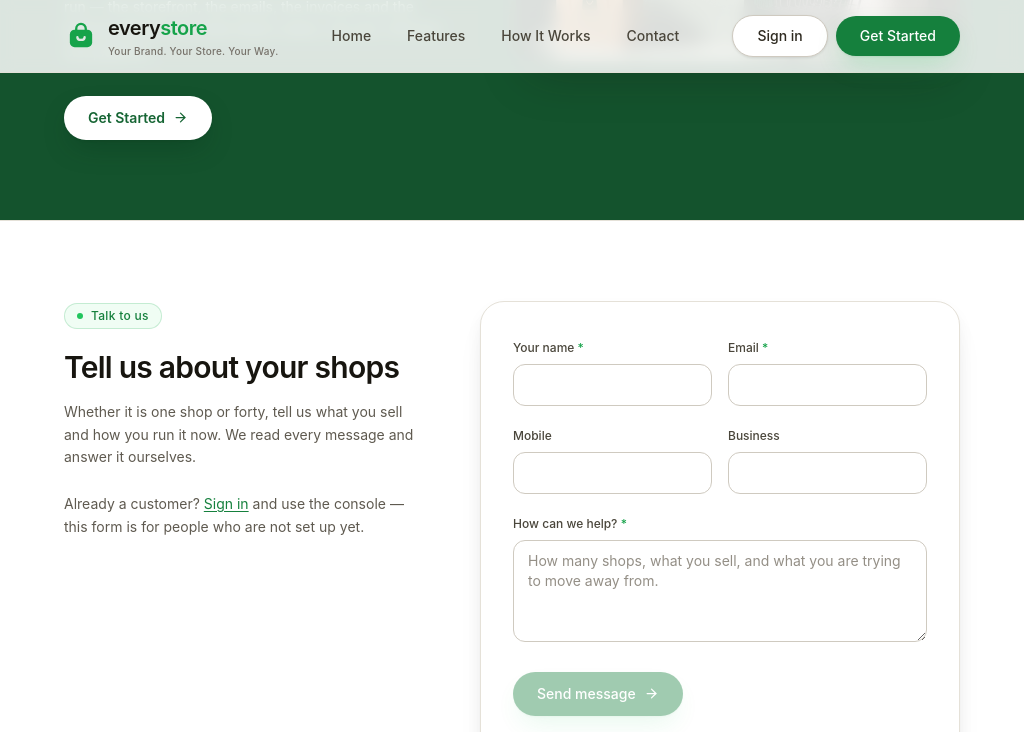
it: the contact form on the landing page › shows the server’s own refusal and keeps what was typed
(page scrolled)
Type "Priya Raman" into the field labelled "Your name *" at (612, 385), box [513,364,712,406]
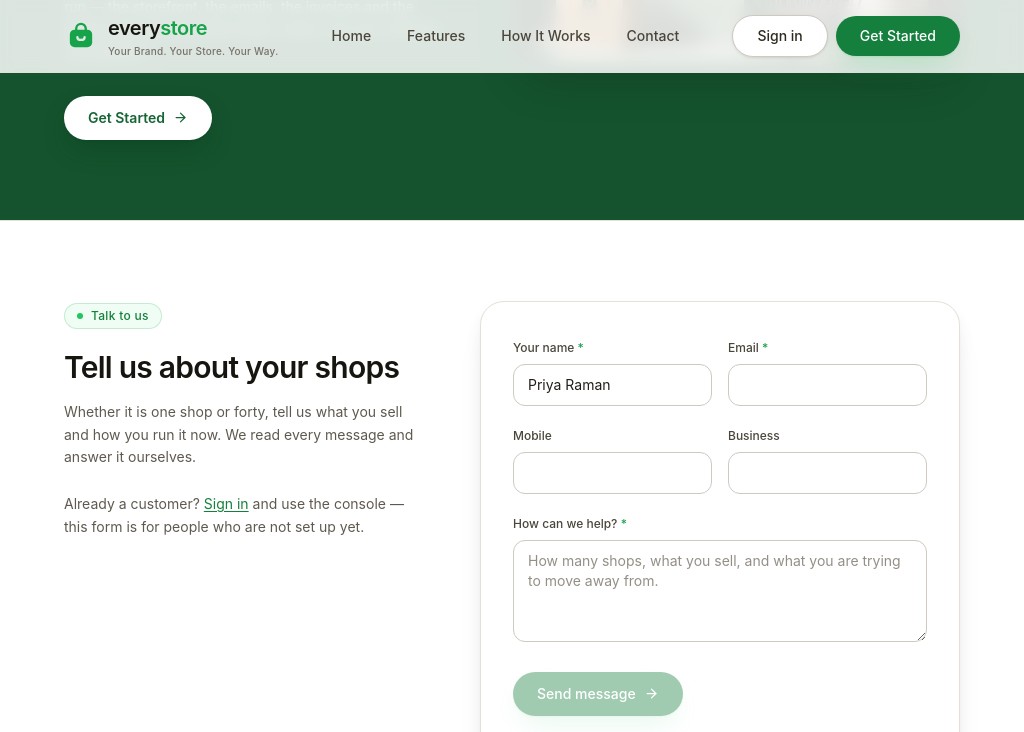
Type "priya@northwind.example" into the field labelled "Email *" at (828, 385), box [728,364,927,406]
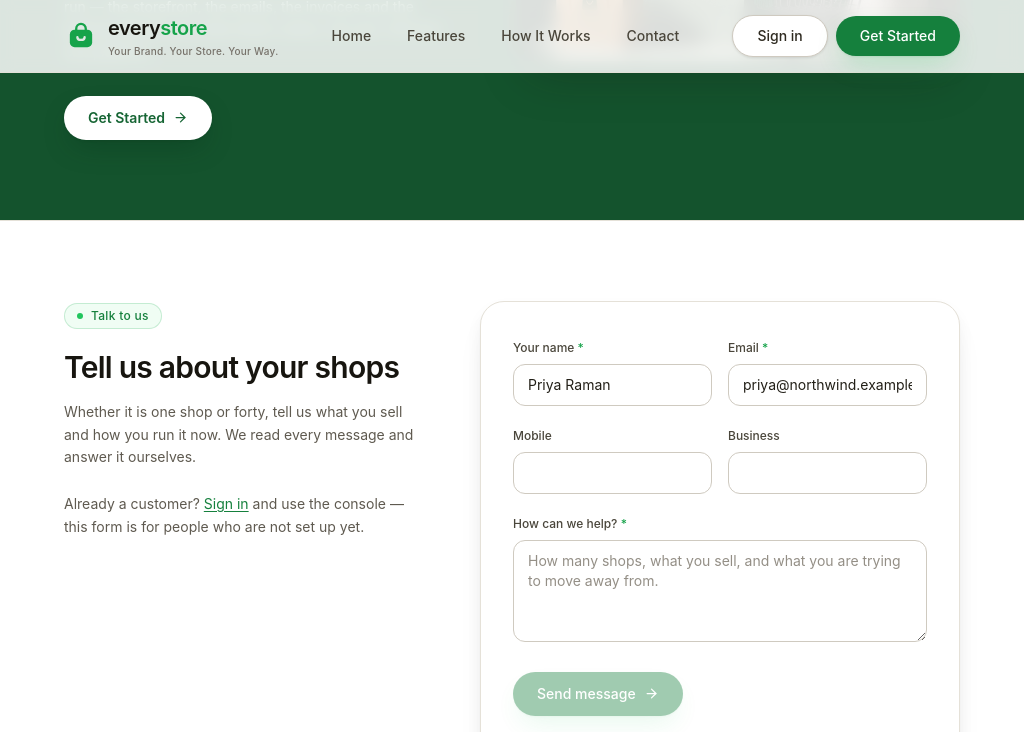
Replace the text in the text box labelled "How can we help? *" with "We run four shops and would like a demo." at (720, 591), box [513,540,927,642]
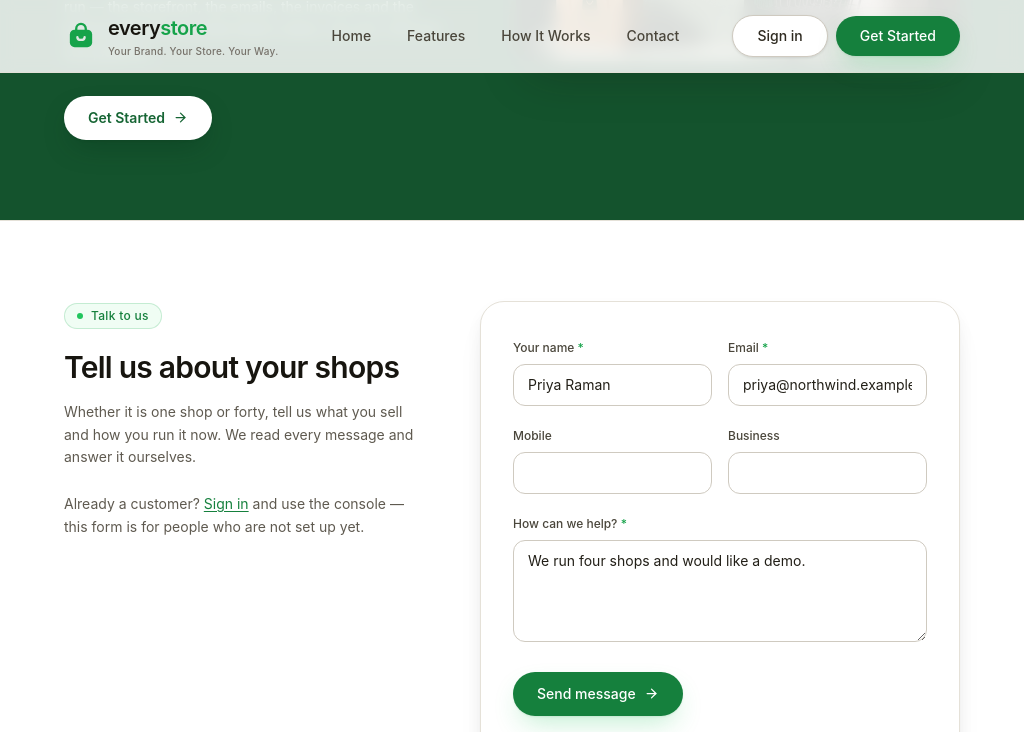
Click the button "Send message" at (598, 694), box [513,672,683,716]
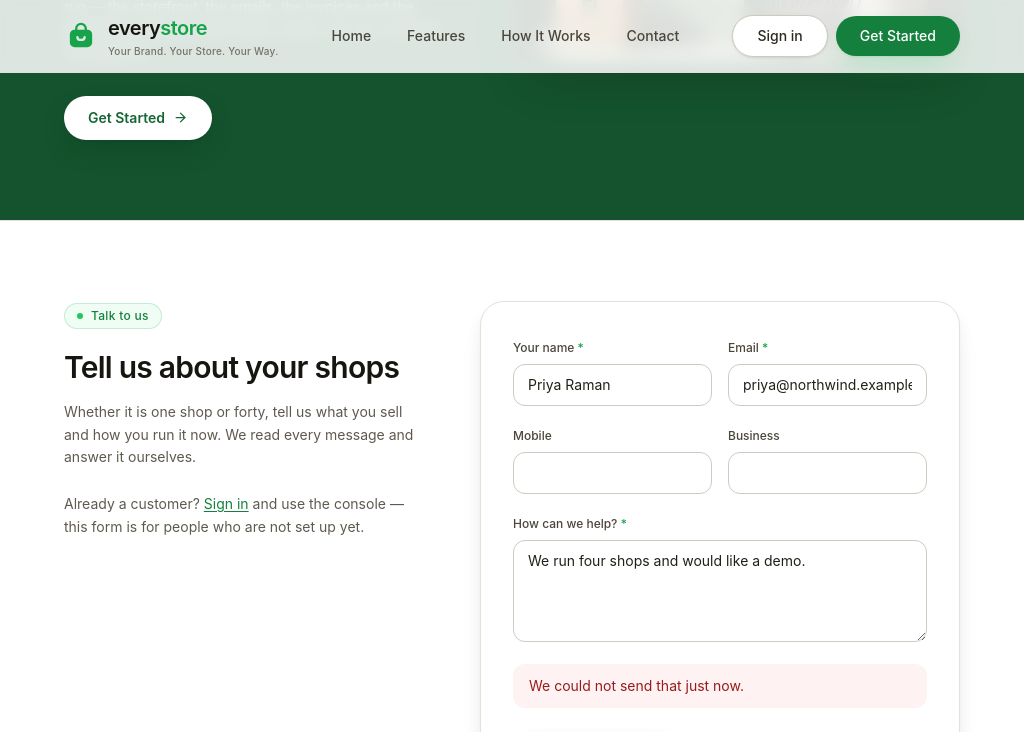
Check: the message reads "We could not send that just now.", box [529,677,744,694]
